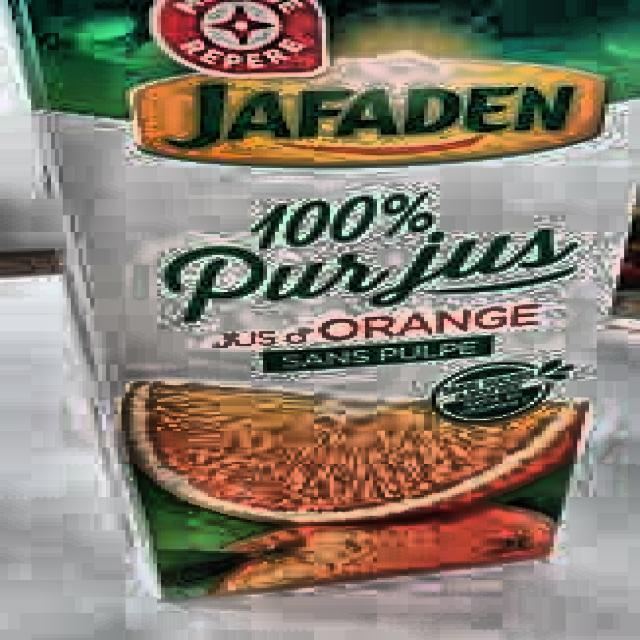cardboard: (4, 0, 636, 601)
